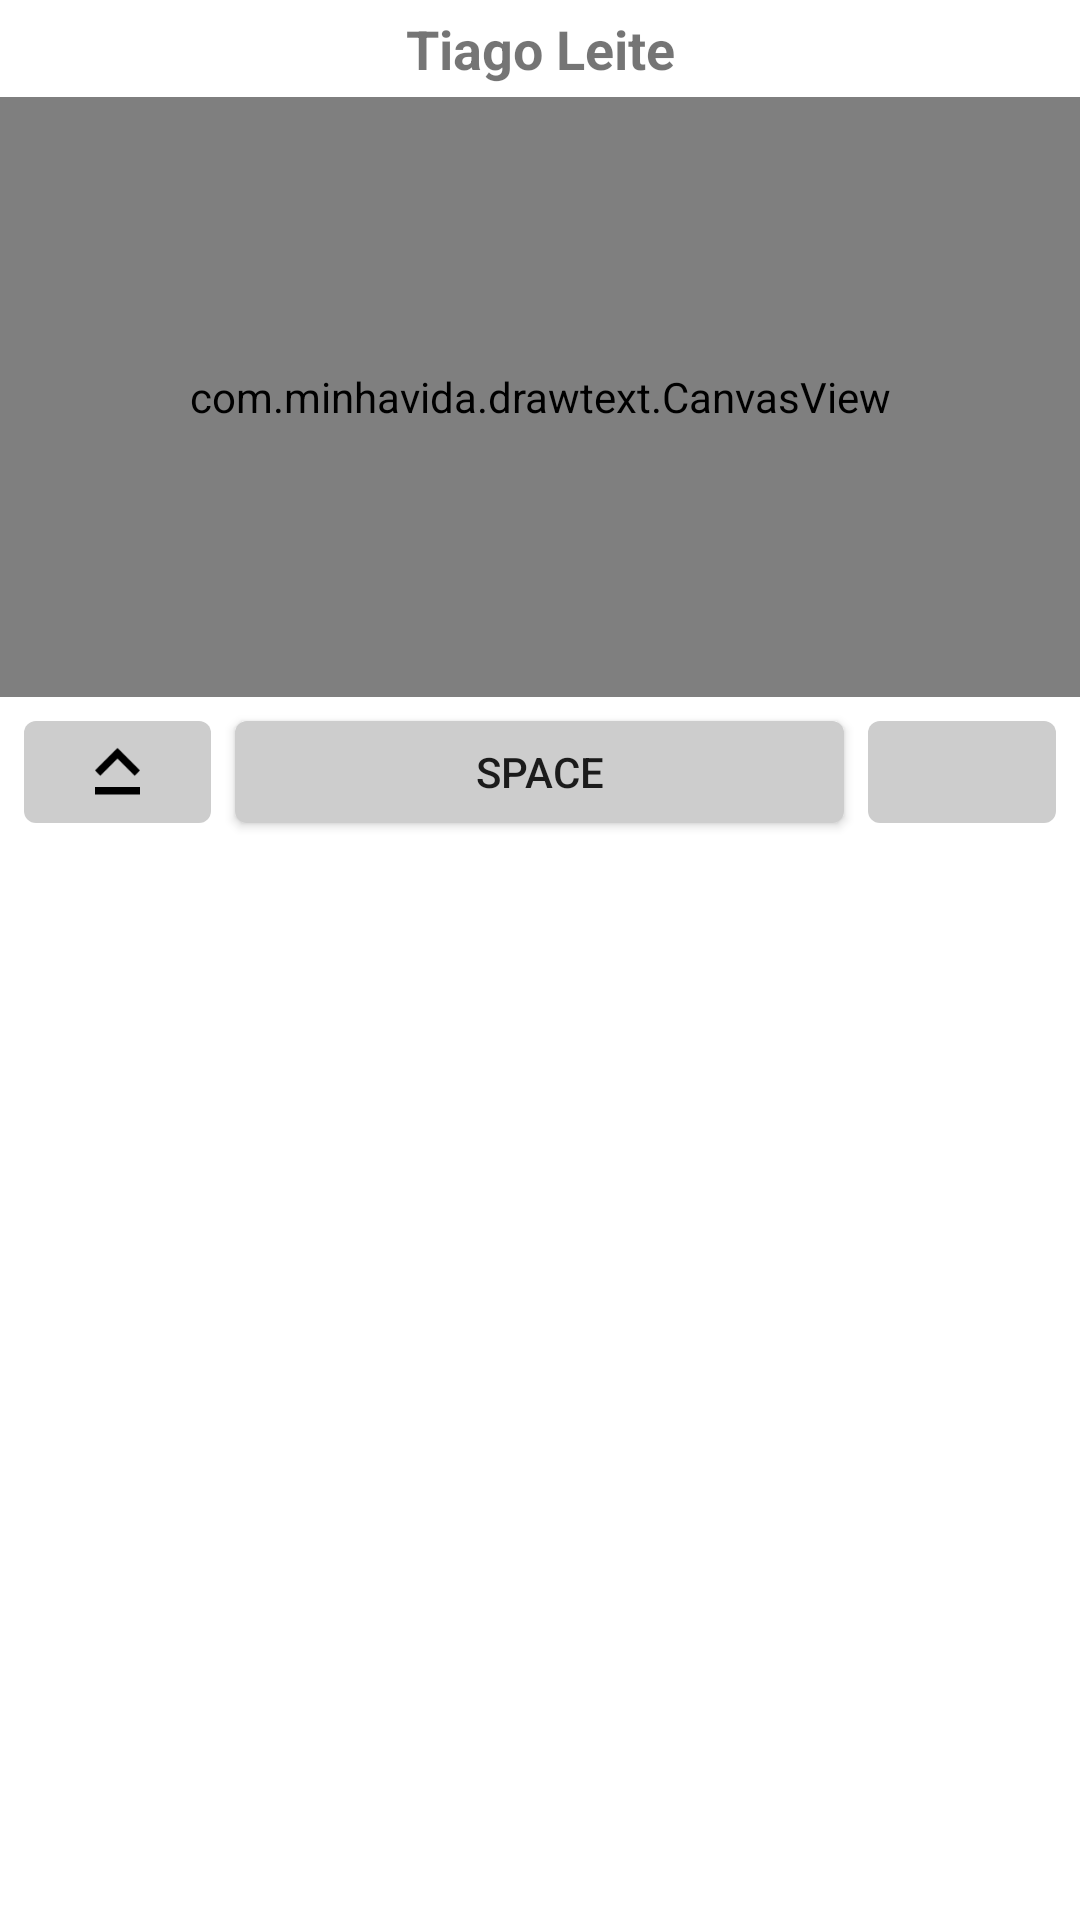

Screen size 1080 x 1920. Icon name, then its center in pixels as (x,y):
keyboard capslock: (117,772)
